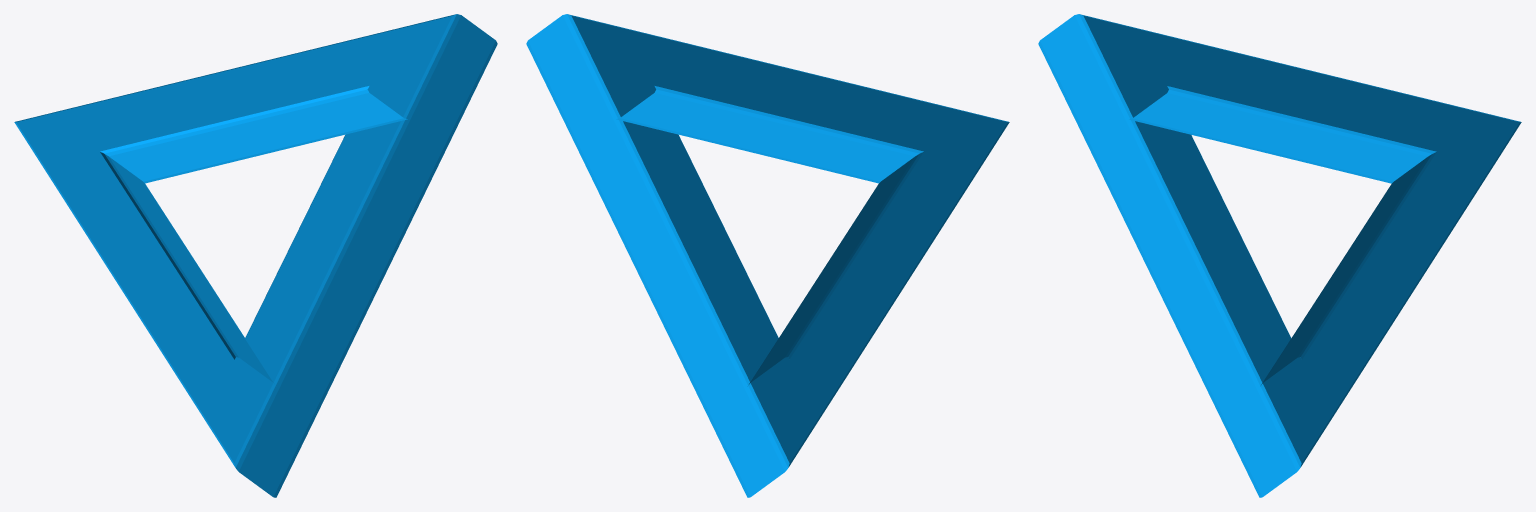
Rendered from glyph_existence.glb.
The picture shows the model from 3 angles, left to right: view 1: azimuth 30°, elevation 25°; view 2: azimuth 150°, elevation 25°; view 3: azimuth 330°, elevation 25°; orthographic projection.
Bounding box in the file's own units: 59.37 × 51.26 × 10.
